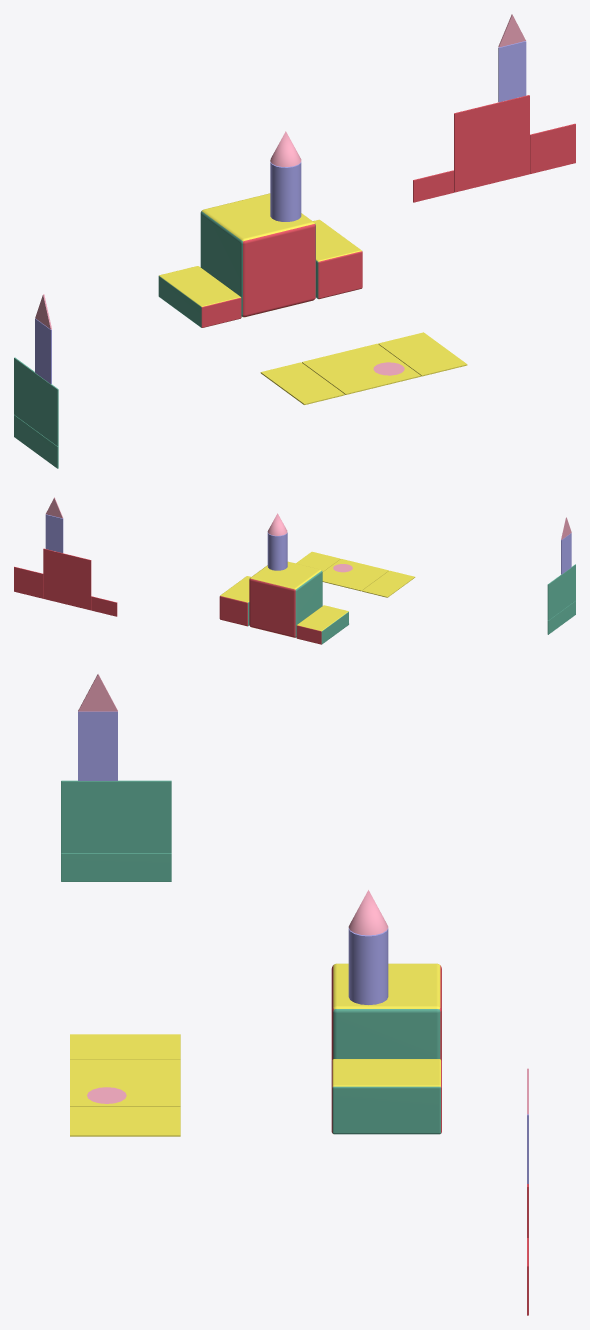
The model's file is shapes_asses2.glb.
3 views of the same model, one above another, from view 1: azimuth 30°, elevation 25°; view 2: azimuth 150°, elevation 25°; view 3: azimuth 270°, elevation 25° (orthographic). The views are drawn at different scales.
Visible parts, largest first — view 1: cube1, polySurface28, rectangular_prism1, polySurface12, rectangular_prism2, polySurface34, rectangular_prism_base2, rectangular_prism_base1, polySurface29, cylinder, polySurface31, polySurface33 (+3 smaller); view 2: cube1, polySurface28, rectangular_prism1, polySurface12, rectangular_prism2, polySurface34, polySurface29, rectangular_prism_base1, cylinder, polySurface31, rectangular_prism_base2, polySurface33 (+3 smaller); view 3: cube1, rectangular_prism2, polySurface34, polySurface12, rectangular_prism_base2, polySurface33, rectangular_prism_base1, cylinder, polySurface25, cone, polySurface26.
Boxes of the visible parts, x1,y1,x2,y2 form: cube1: (200, 193, 315, 317); polySurface28: (454, 95, 529, 192); rectangular_prism1: (158, 266, 241, 327); polySurface12: (302, 343, 420, 394); rectangular_prism2: (313, 219, 362, 299); polySurface34: (14, 357, 58, 446); rectangular_prism_base2: (378, 332, 467, 376); rectangular_prism_base1: (260, 362, 344, 404); polySurface29: (530, 123, 575, 173); cylinder: (270, 162, 301, 221); polySurface31: (498, 41, 526, 102); polySurface33: (14, 415, 58, 468); cube1: (249, 561, 322, 637); polySurface28: (43, 548, 91, 610); rectangular_prism1: (296, 605, 348, 644); polySurface12: (322, 559, 388, 591); rectangular_prism2: (219, 576, 250, 626); polySurface34: (547, 564, 575, 620); polySurface29: (14, 566, 43, 598); rectangular_prism_base1: (362, 570, 415, 597); cylinder: (267, 532, 287, 570); polySurface31: (45, 514, 63, 552); rectangular_prism_base2: (296, 551, 340, 571); polySurface33: (547, 601, 575, 634); cube1: (331, 963, 441, 1060); rectangular_prism2: (331, 1059, 441, 1134); polySurface34: (61, 780, 171, 853); polySurface12: (70, 1059, 180, 1106); rectangular_prism_base2: (70, 1107, 180, 1136); polySurface33: (61, 853, 171, 881); rectangular_prism_base1: (70, 1034, 180, 1059); cylinder: (348, 928, 388, 1004); polySurface25: (78, 711, 117, 780); cone: (348, 890, 388, 935); polySurface26: (78, 674, 117, 711).
Bounding box in the file's own units: 0.2807 × 0.0626 × 0.1277.
